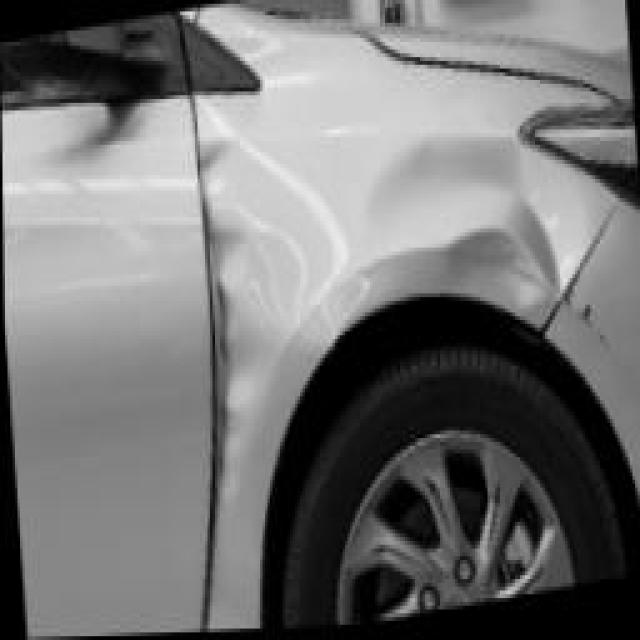Fender: (193, 79, 621, 633)
